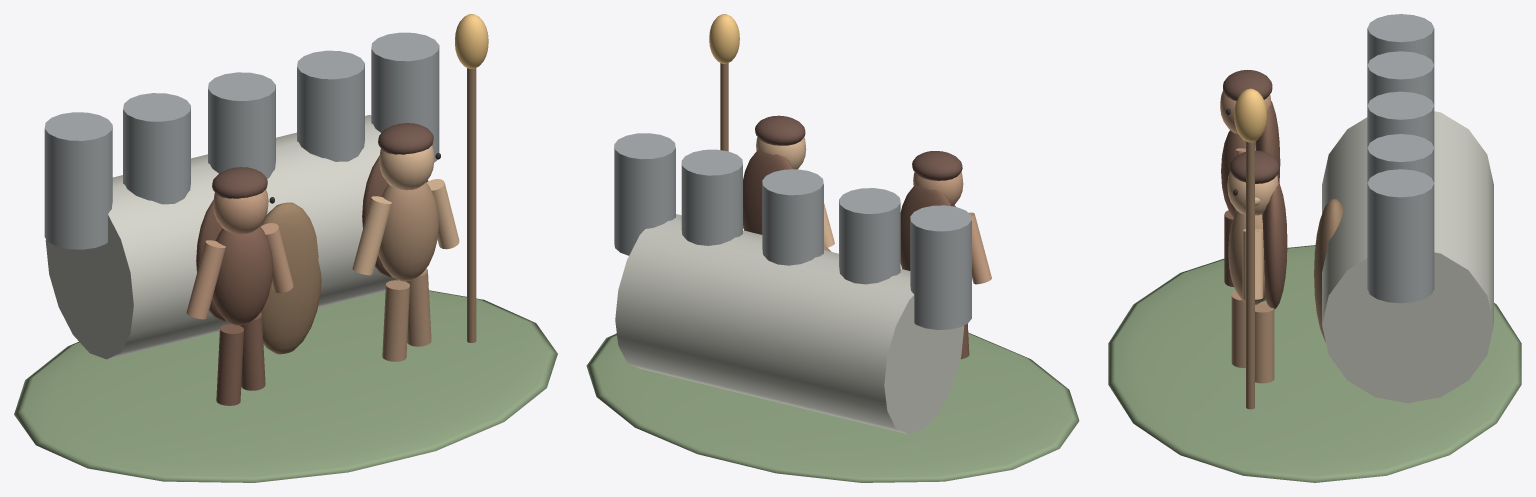
File: medieval-scene.gltf
The picture shows the model from 3 angles, left to right: view 1: azimuth 30°, elevation 25°; view 2: azimuth 150°, elevation 25°; view 3: azimuth 270°, elevation 25°; orthographic projection. The views are drawn at different scales.
Visible parts, largest first — view 1: Ground, Battlement (×5), FortWall, Body (×2), FortGate, LeftLeg (×2), Face (×2), LeftArm (×2), RightLeg (×2), Hair (×2), Staff, RightArm (×2) (+2 smaller); view 2: FortWall, Ground, Battlement (×5), Cloak (×2), Hair (×2), Face (×2), TorchGlow, LeftArm, Staff; view 3: Ground, FortWall, Battlement (×5), Cloak (×2), Staff, Body (×2), Hair (×2), Face (×2), RightLeg, LeftLeg (×2), FortGate, TorchGlow (+1 smaller).
Boxes of the visible parts, x1,y1,x2,y2 form: Ground: (14,290,557,482); Battlement (×5): (44,32,439,249); FortWall: (45,115,398,359); Body (×2): (212,182,438,325); FortGate: (260,202,321,354); LeftLeg (×2): (216,280,409,405); Face (×2): (213,145,434,234); LeftArm (×2): (186,196,391,319); RightLeg (×2): (240,268,431,390); Hair (×2): (212,123,433,198); Staff: (467,68,476,342); RightArm (×2): (261,179,459,293); FortWall: (615,214,964,434); Ground: (586,332,1079,482); Battlement (×5): (614,133,971,329); Cloak (×2): (743,150,951,270); Hair (×2): (755,115,962,180); Face (×2): (756,137,963,206); TorchGlow: (709,14,739,63); LeftArm: (969,212,991,284); Staff: (720,63,728,151); Ground: (1108,245,1521,482); FortWall: (1322,111,1493,403); Battlement (×5): (1367,14,1434,303); Cloak (×2): (1255,101,1287,309); Staff: (1246,141,1254,409); Body (×2): (1221,130,1265,305); Hair (×2): (1223,70,1279,183); Face (×2): (1220,90,1278,215); RightLeg: (1255,303,1274,383); LeftLeg (×2): (1224,210,1245,367); FortGate: (1314,198,1343,342); TorchGlow: (1234,88,1266,142).
Bounding box in the file's own units: 2.36 × 1.66 × 1.73.
